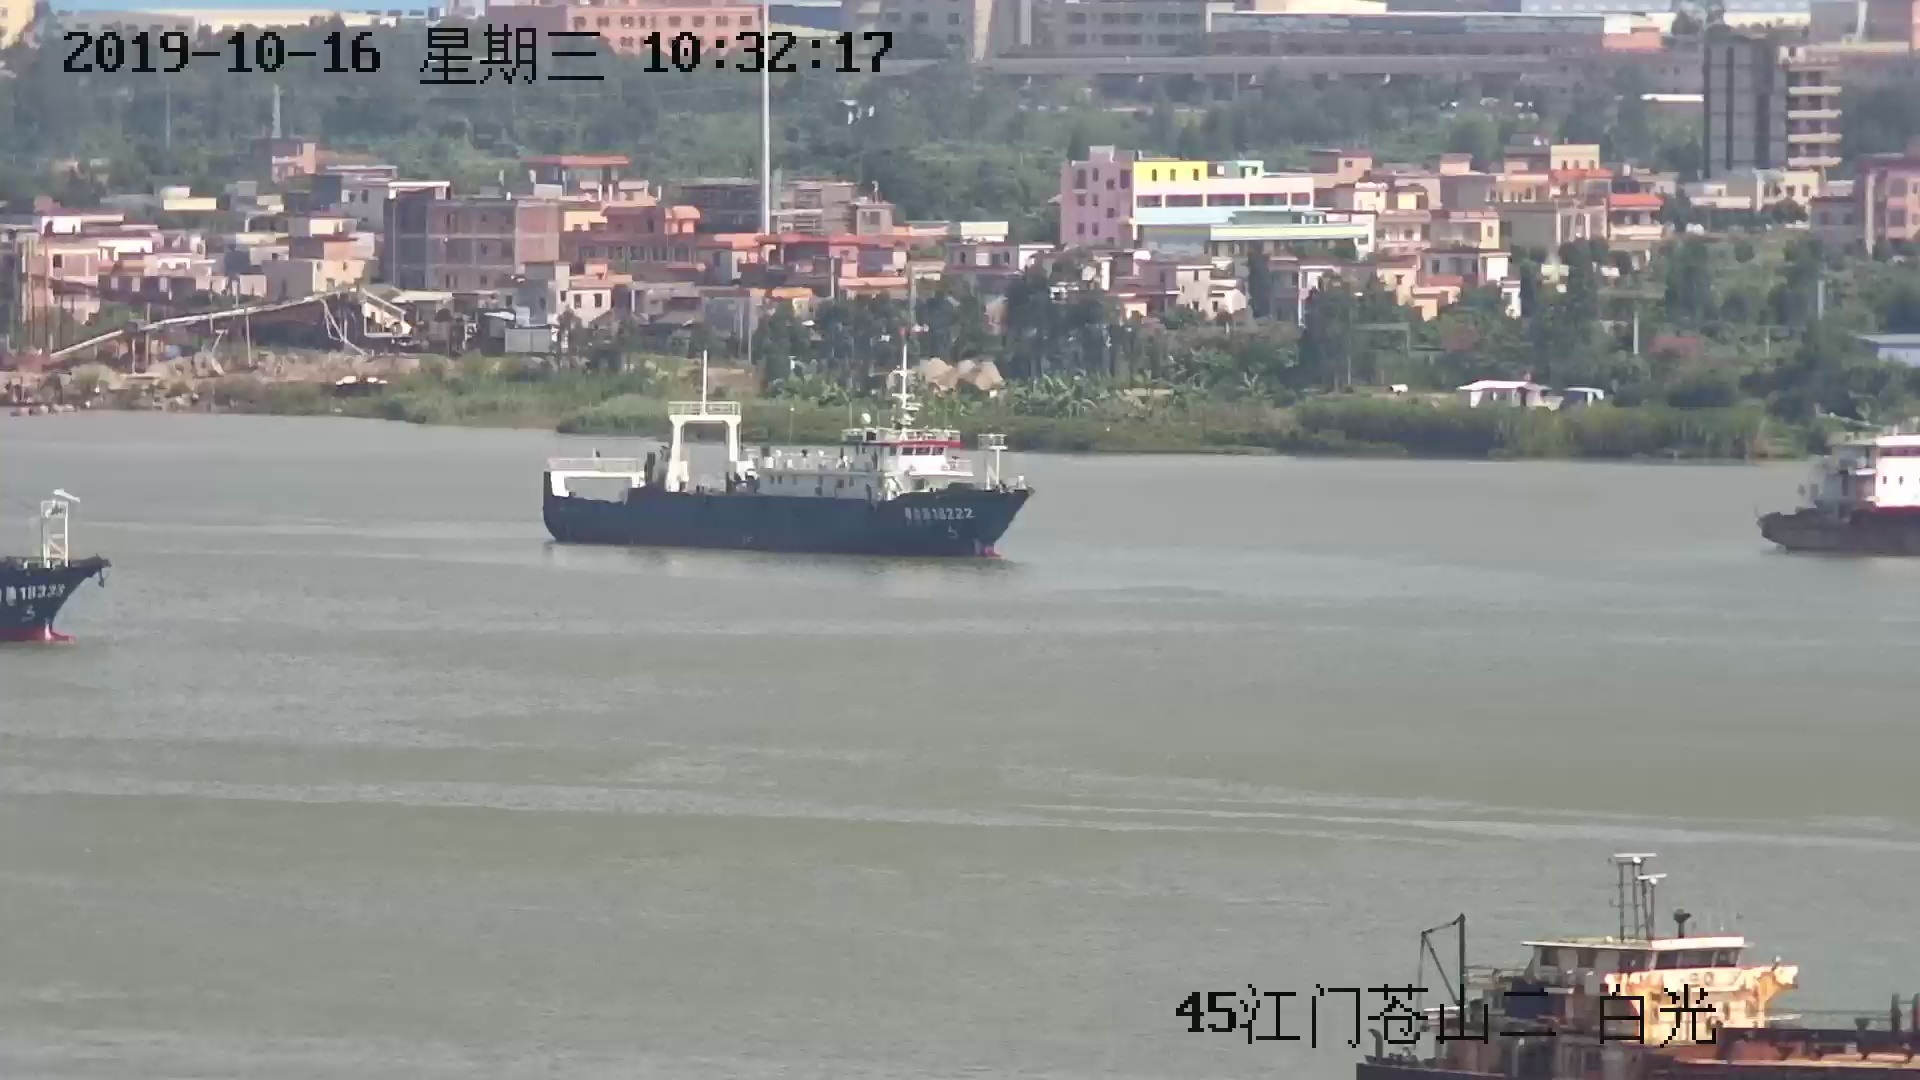ship: (554, 375, 1039, 564), (1759, 434, 1920, 556)
